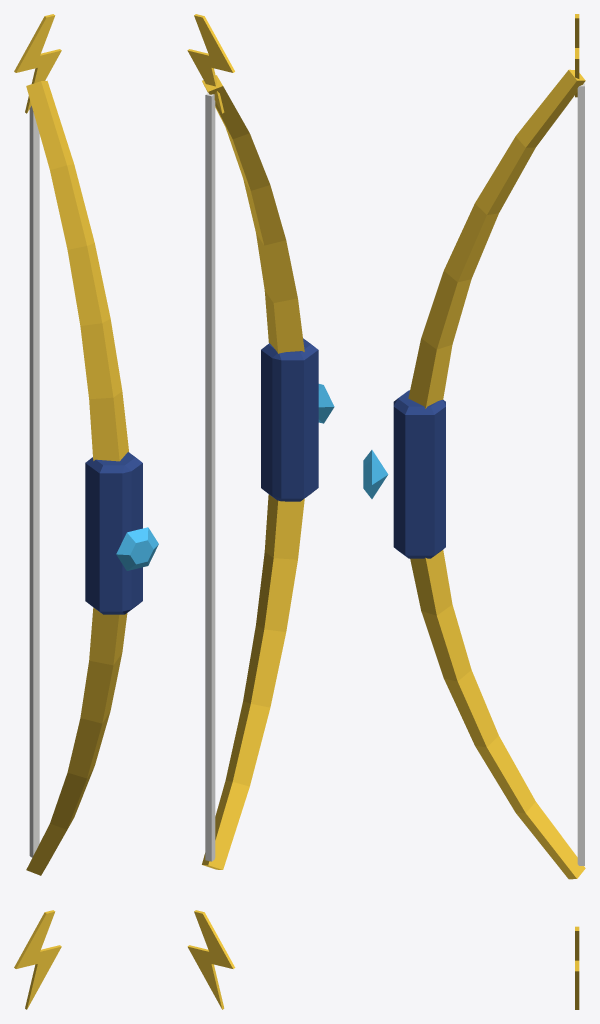
The model's file is ThunderBow.fbx.
3 views of the same model, side by side, from view 1: azimuth 30°, elevation 25°; view 2: azimuth 150°, elevation 25°; view 3: azimuth 270°, elevation 25° (orthographic).
Visible parts, largest first — view 1: ThunderBow; view 2: ThunderBow; view 3: ThunderBow.
Part boxes in pixels (left/top/right/bottom): ThunderBow: left=14, top=14, right=158, bottom=1009; ThunderBow: left=187, top=14, right=334, bottom=1009; ThunderBow: left=363, top=14, right=585, bottom=1009.
Bounding box in the file's own units: 0.2573 × 5.29 × 1.06.
1 material, 1 textured.
